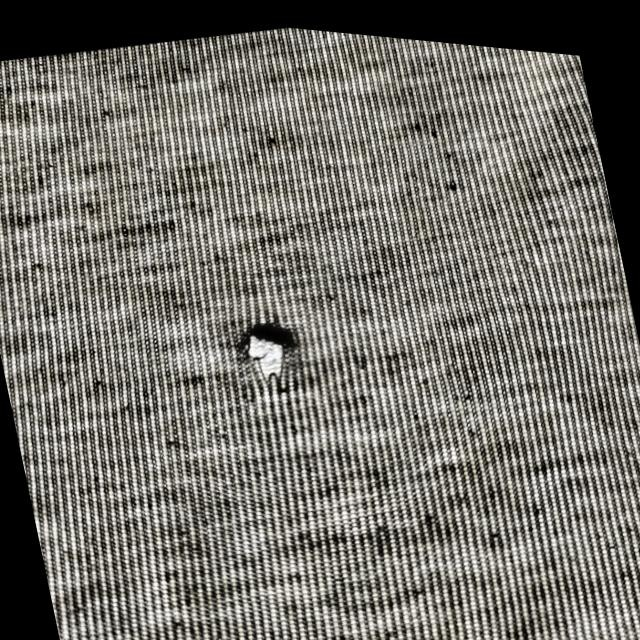Hole: (217, 297, 320, 409)
